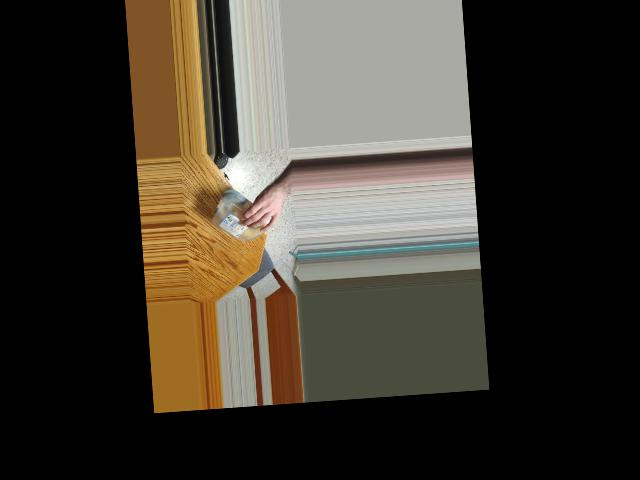cheese: (208, 188, 278, 245)
